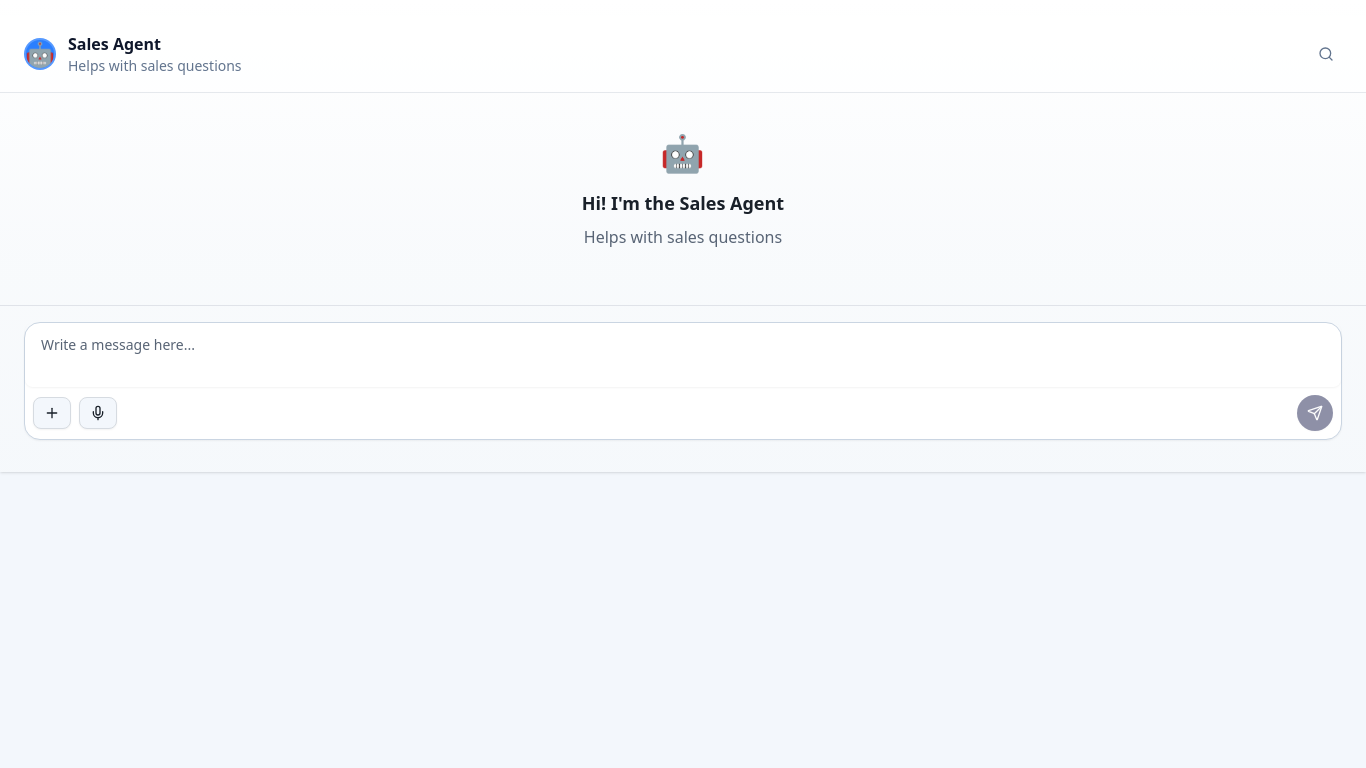
Test: ChatInterface › sends a message and forwards payload to webhook
Type "Hola agente" into the text box with placeholder "Write a message here..." at point(683, 355), box [25,323,1341,387]
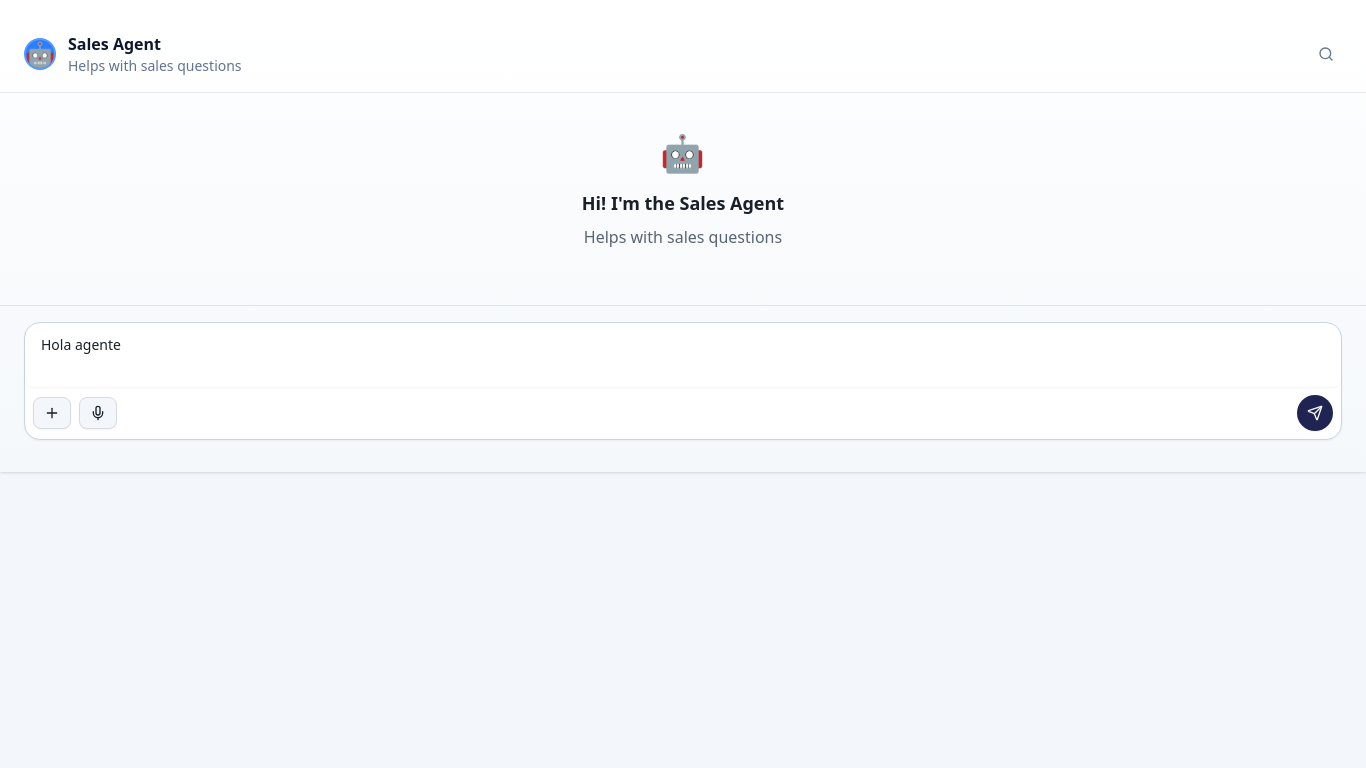
Submit the form, box [24,322,1342,440]
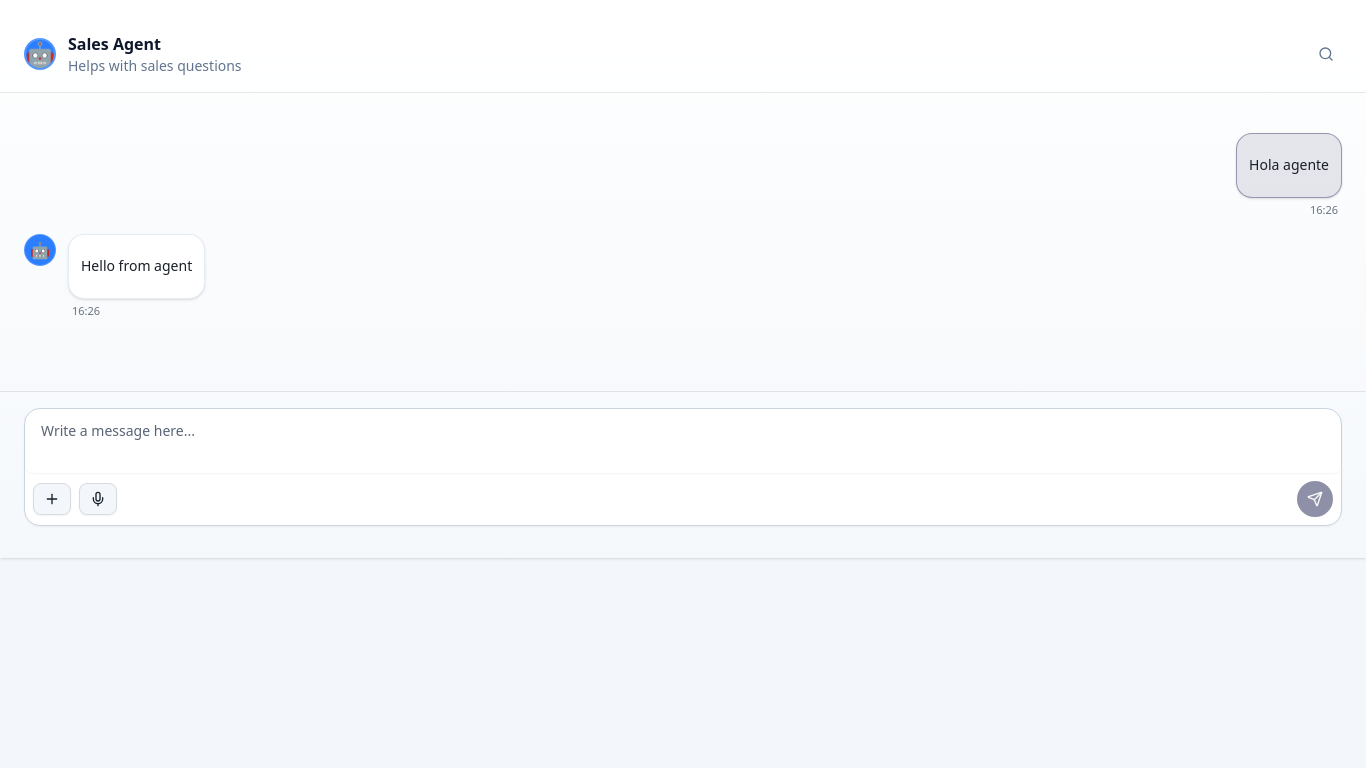
Now the text "Hola agente" is shown, box [1249,154,1329,177]
